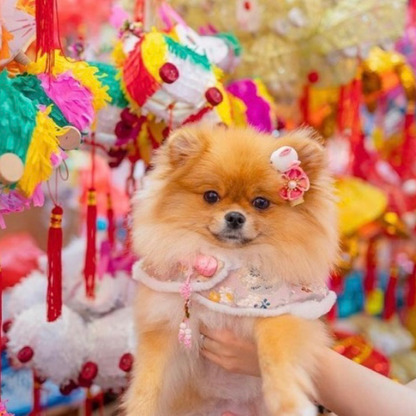Pomeranian: (111, 119, 376, 403)
